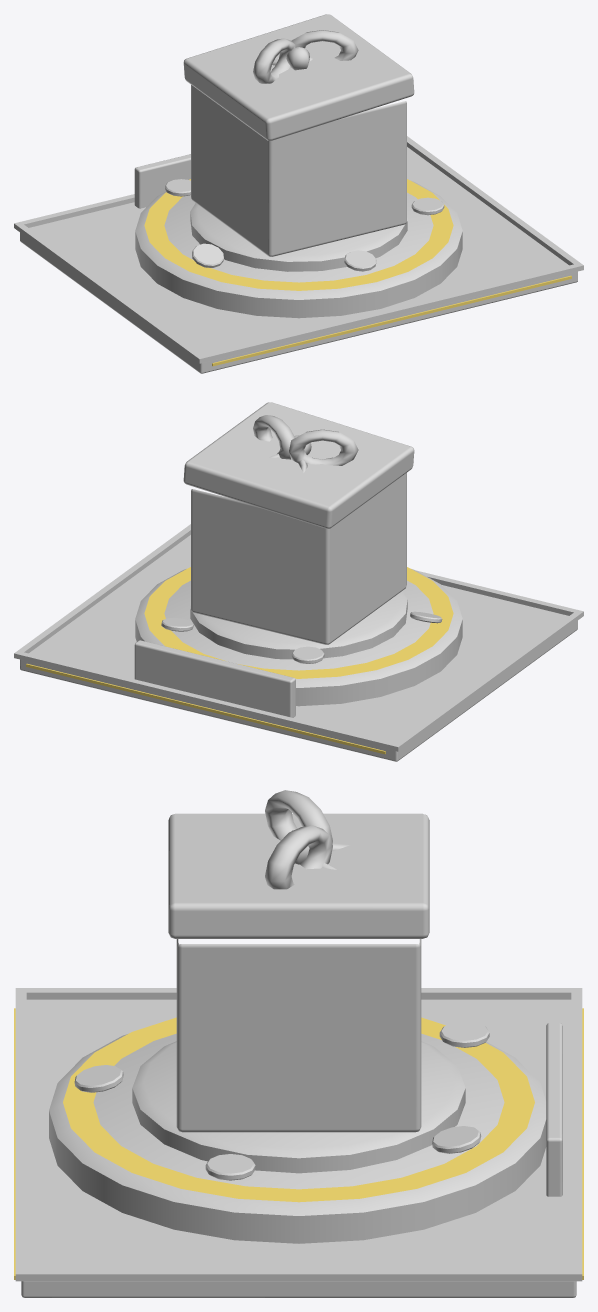
Rendered from DailyPad.glb.
The picture shows the model from 3 angles, top to bottom: view 1: azimuth 30°, elevation 25°; view 2: azimuth 150°, elevation 25°; view 3: azimuth 270°, elevation 25°; orthographic projection. The views are drawn at different scales.
Visible parts, largest first — view 1: Body, Glow; view 2: Body, Glow; view 3: Body, Glow.
Boxes of the visible parts, <box> form: Body: <box>14,14,583,373</box>; Glow: <box>144,179,571,366</box>; Body: <box>14,402,583,761</box>; Glow: <box>26,567,453,754</box>; Body: <box>15,790,582,1297</box>; Glow: <box>14,1008,583,1279</box>.
Size of the model in its own units: 12.2 by 6.83 by 10.26.
